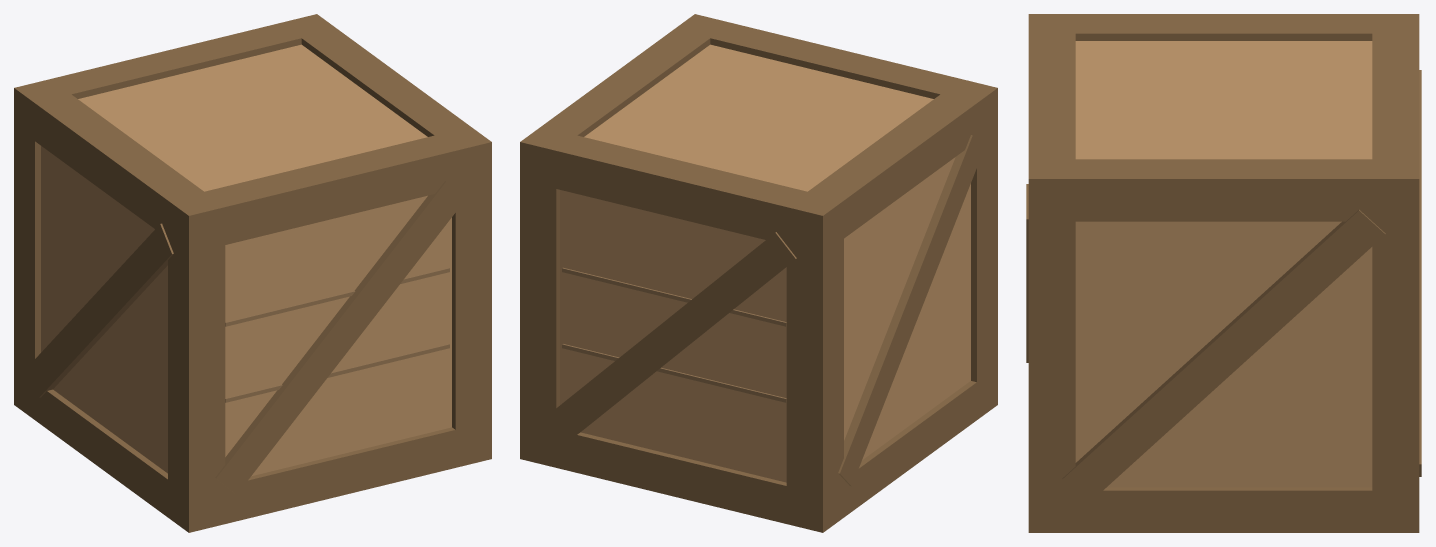
File: crate.glb
3 renders of one model, left to right at view 1: azimuth 30°, elevation 25°; view 2: azimuth 150°, elevation 25°; view 3: azimuth 270°, elevation 25°, orthographic. The views are drawn at different scales.
Visible parts, largest first — view 1: crate-m; view 2: crate-m; view 3: crate-m.
Boxes of the visible parts, x1=… form: crate-m: x1=14, y1=14, x2=491, y2=532; crate-m: x1=520, y1=14, x2=997, y2=532; crate-m: x1=1026, y1=14, x2=1421, y2=532.
Size of the model in its own units: 1.01 by 1 by 1.01.
